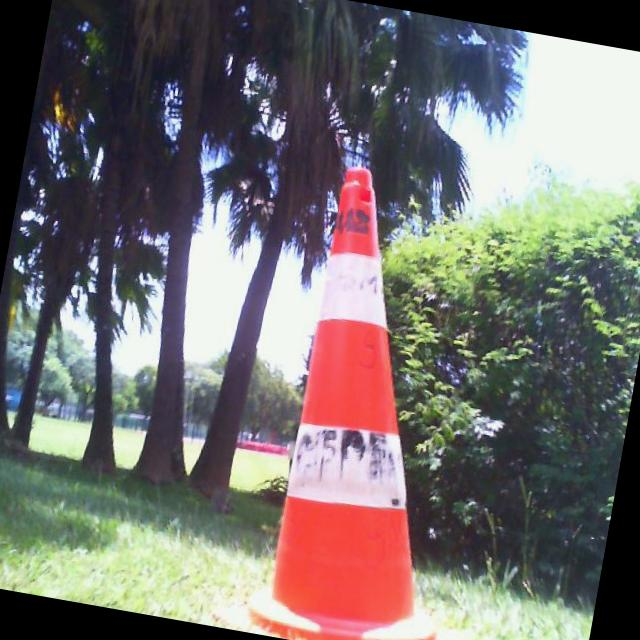Cone: (209, 154, 543, 640)
